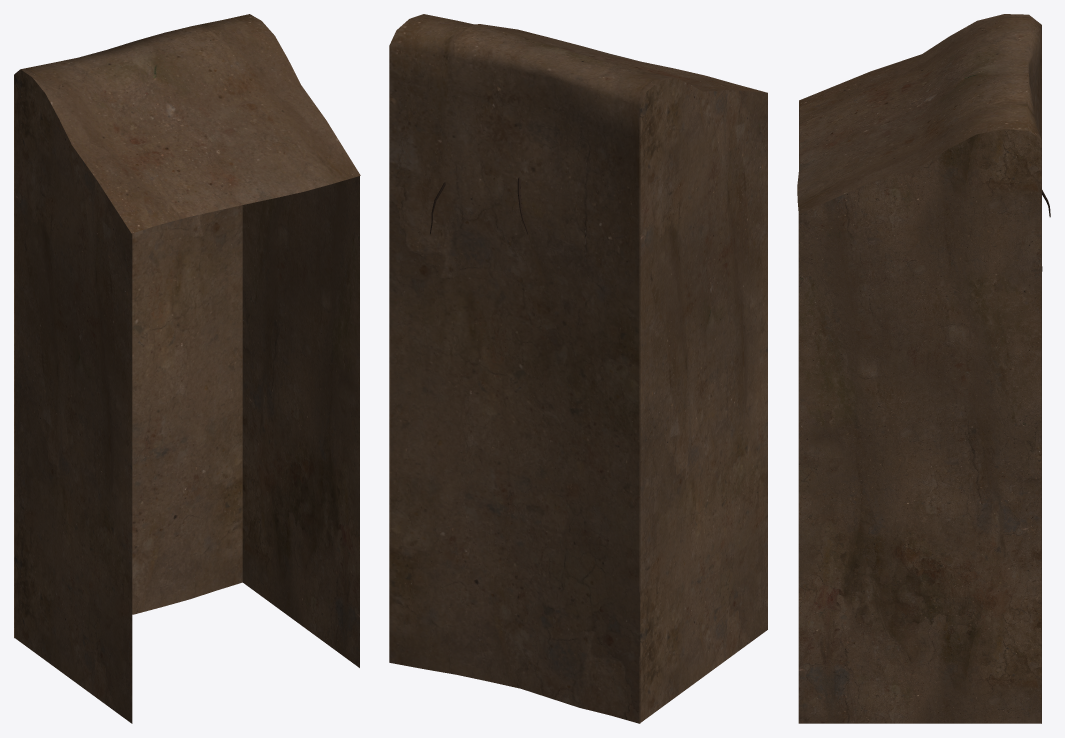
File: S7U_EarthWall_1m_B.fbx
3 renders of one model, left to right at view 1: azimuth 30°, elevation 25°; view 2: azimuth 150°, elevation 25°; view 3: azimuth 270°, elevation 25°, orthographic. The views are drawn at different scales.
Visible parts, largest first — view 1: S7U_EarthWall_1m_B; view 2: S7U_EarthWall_1m_B; view 3: S7U_EarthWall_1m_B.
Boxes of the visible parts, left/top/right/bottom form: S7U_EarthWall_1m_B: left=14, top=14, right=360, bottom=723; S7U_EarthWall_1m_B: left=389, top=14, right=767, bottom=723; S7U_EarthWall_1m_B: left=797, top=14, right=1050, bottom=723.
Size of the model in its own units: 1 by 2.41 by 0.9255.
